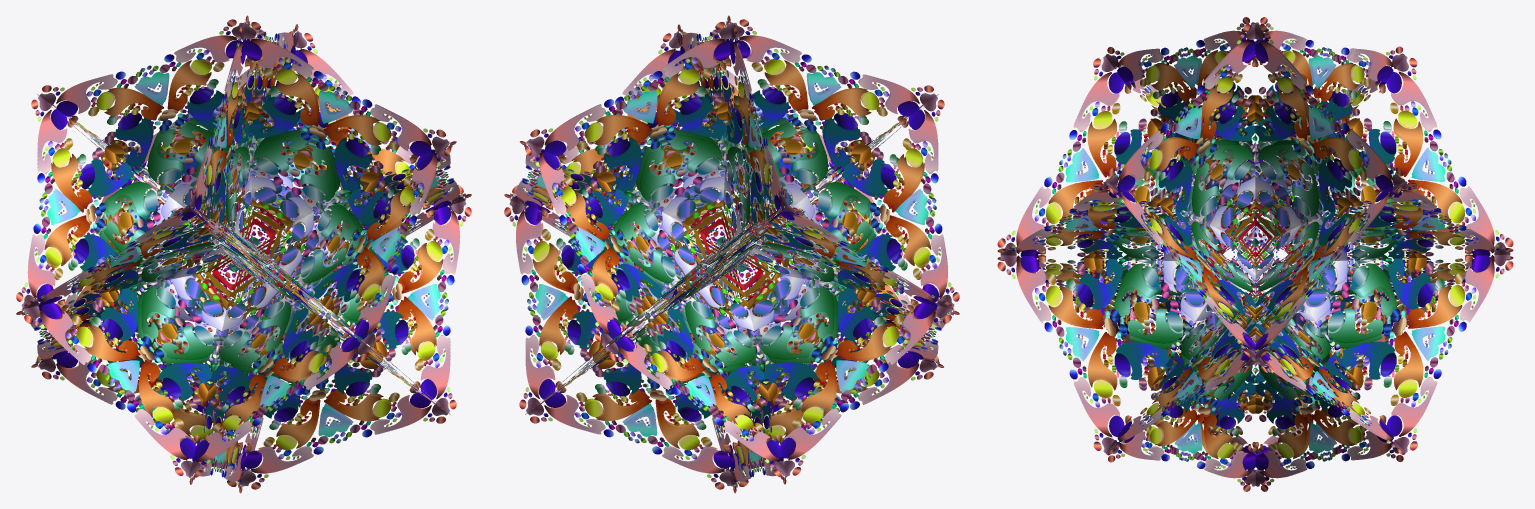
The model's file is Mobius48b.obj.
The picture shows the model from 3 angles, left to right: view 1: azimuth 30°, elevation 25°; view 2: azimuth 150°, elevation 25°; view 3: azimuth 270°, elevation 25°; orthographic projection.
Bounding box in the file's own units: 2.16 × 2.16 × 2.16.
Materials: 1 (1 with a texture image).
